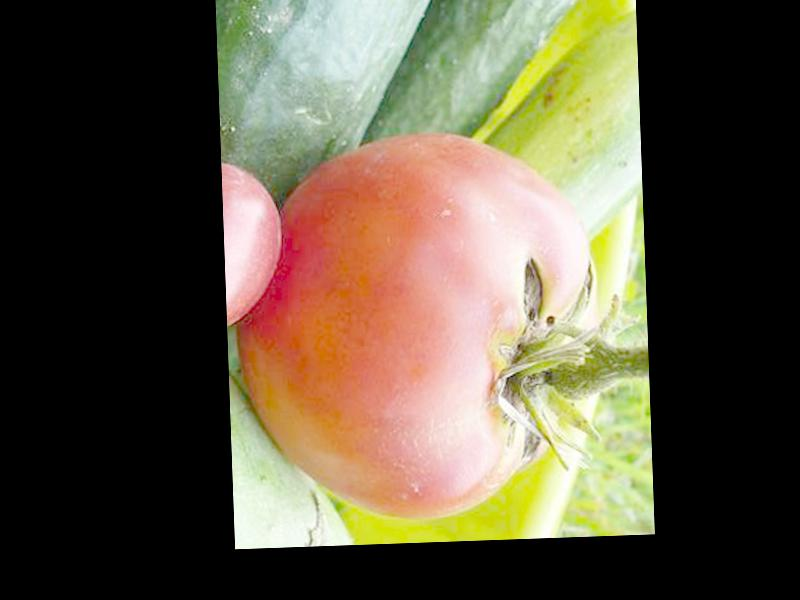Tomato: (229, 130, 599, 527)
